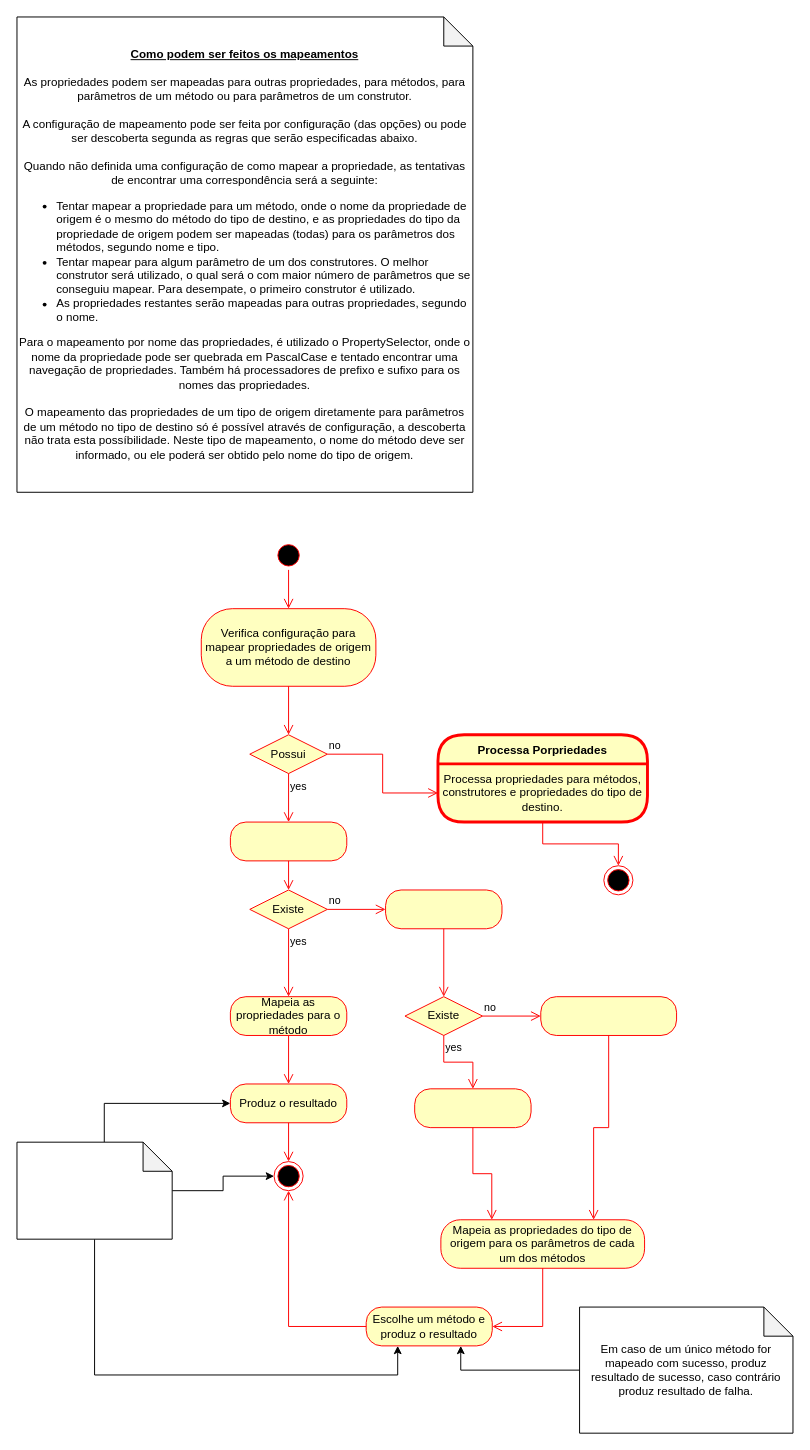
Some shapes in this 810 by 1450 pixel diagram are drawn without their labels. The centre of each missing label's shape, as x and y in pixels:
"Busca métodos pelo nome definido" belongs at (472,1108).
"Busca métodos pelo nome do tipo de origem" belongs at (608,1015).
"O resultado produzido pode ser sucesso ou falha" belongs at (94,1190).
"Verifica método específicado" belongs at (288,841).
"Verifica se existe o nome do método" belongs at (443,909).
